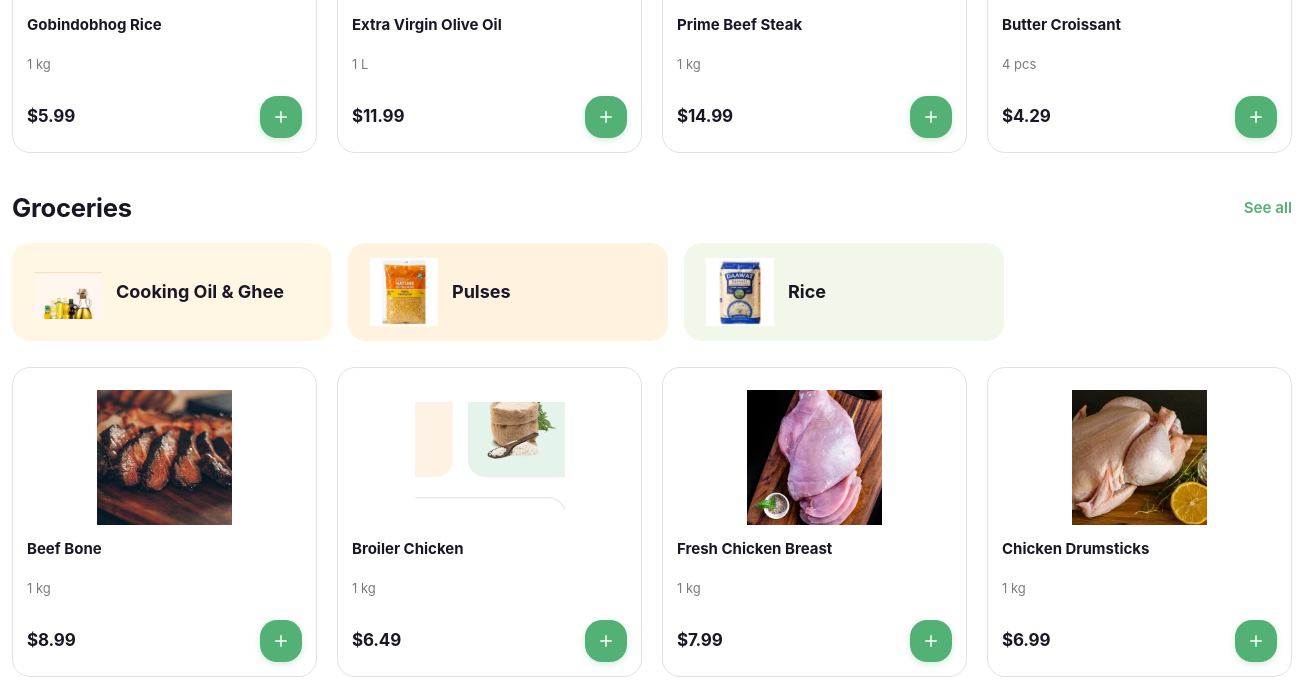
Test: HomePage Professional UI & Carousel › filters grocery products to Cooking Oil & Ghee when Cooking Oil chip is clicked
(page scrolled)
Click the button with aria-label "filter by cooking oil & ghee": (172, 292) top-left (12, 243), bottom-right (332, 341)
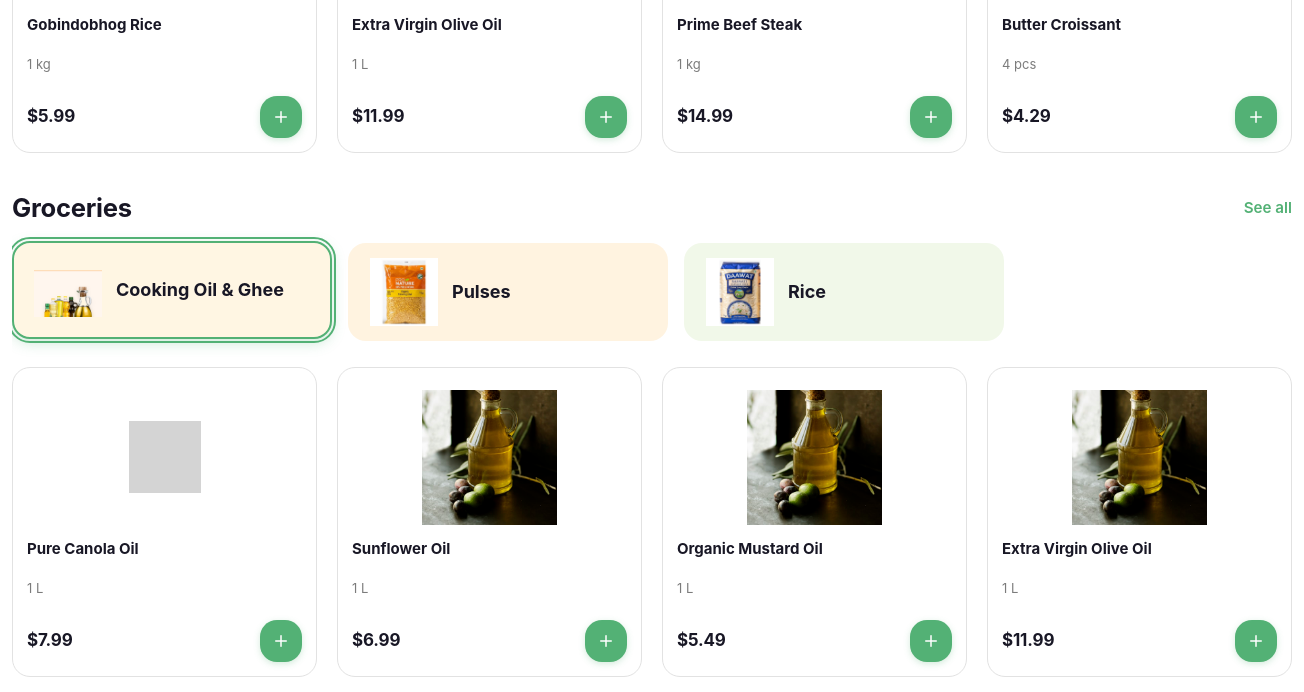
expect the heading "Pure Canola Oil" is shown: met, box top-left (27, 539), bottom-right (139, 558)
expect the element with test id "product-card-prod-canola-oil" is shown: met, box top-left (12, 367), bottom-right (317, 677)
